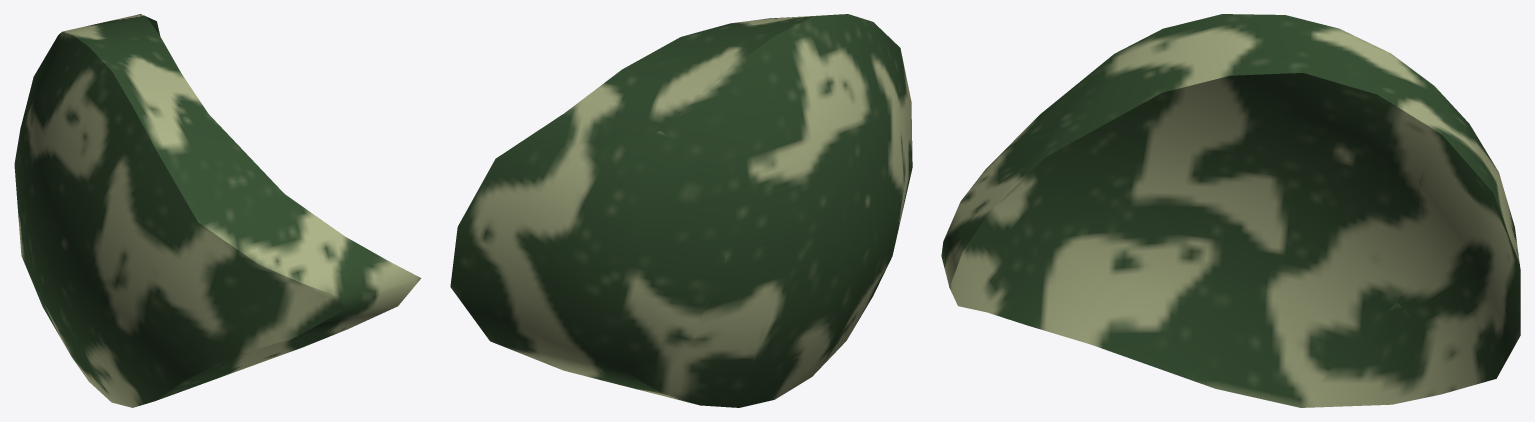
File: link_body_21.obj
The picture shows the model from 3 angles, left to right: view 1: azimuth 30°, elevation 25°; view 2: azimuth 150°, elevation 25°; view 3: azimuth 270°, elevation 25°; orthographic projection. The views are drawn at different scales.
Parts seen in each view (by area): view 1: link_body_21; view 2: link_body_21; view 3: link_body_21.
Boxes of the visible parts, bbox=[...] form: link_body_21: bbox=[14, 14, 421, 407]; link_body_21: bbox=[450, 14, 912, 407]; link_body_21: bbox=[941, 14, 1520, 407].
Bounding box in the file's own units: 7.24 × 9.25 × 13.24.
